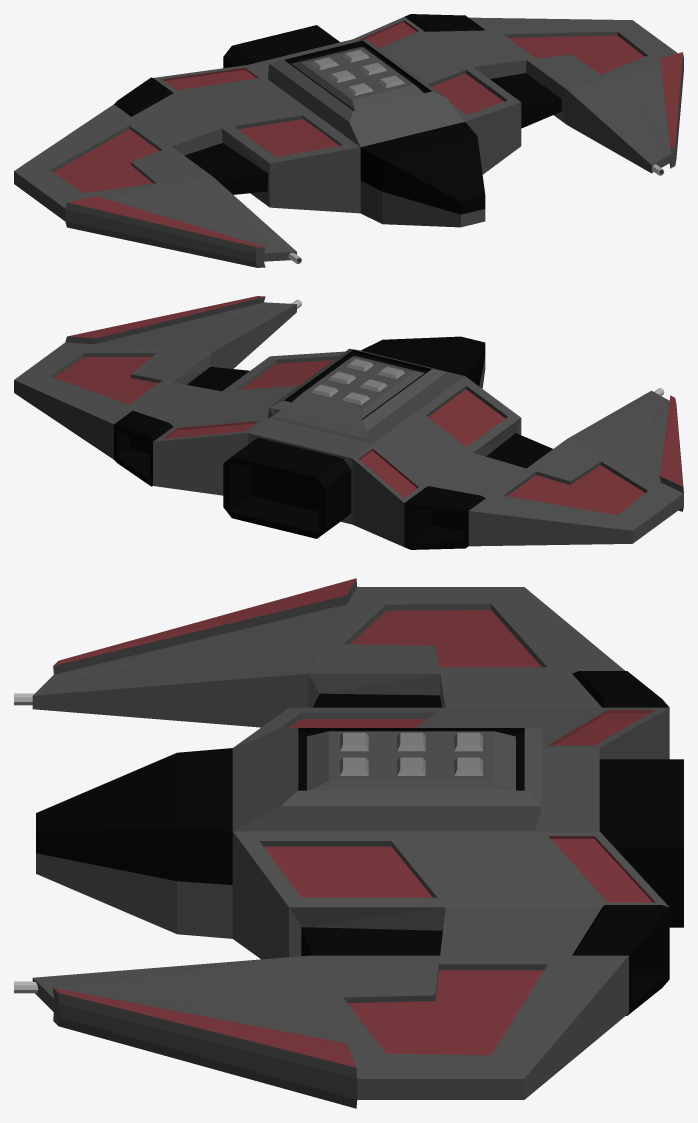
File: Spaceship3_2.fbx
3 views of the same model, one above another, from view 1: azimuth 30°, elevation 25°; view 2: azimuth 150°, elevation 25°; view 3: azimuth 270°, elevation 25° (orthographic). The views are drawn at different scales.
Parts seen in each view (by area): view 1: Spaceship3_2; view 2: Spaceship3_2; view 3: Spaceship3_2.
Boxes of the visible parts, x1,y1,x2,y2 form: Spaceship3_2: (14, 14, 683, 267); Spaceship3_2: (14, 296, 683, 549); Spaceship3_2: (14, 578, 683, 1108).
Bounding box in the file's own units: 1183 × 164 × 681.
